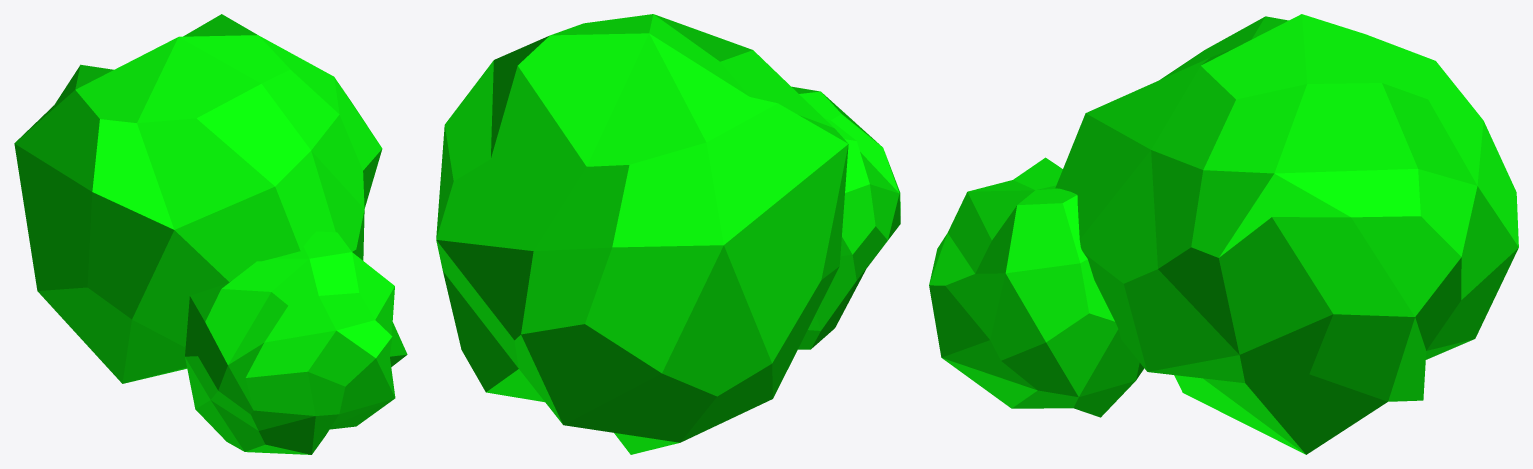
File: SM_Bush_04.fbx
3 views of the same model, side by side, from view 1: azimuth 30°, elevation 25°; view 2: azimuth 150°, elevation 25°; view 3: azimuth 270°, elevation 25° (orthographic). The views are drawn at different scales.
Visible parts, largest first — view 1: Bush_04; view 2: Bush_04; view 3: Bush_04.
Boxes of the visible parts, <box> form: Bush_04: <box>14,14,407,454</box>; Bush_04: <box>436,14,900,454</box>; Bush_04: <box>929,14,1518,454</box>.
Size of the model in its own units: 483 by 534 by 713.
